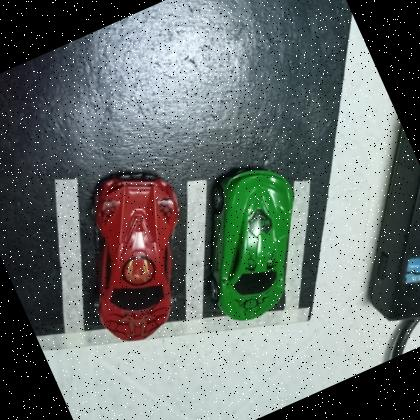Car: (93, 173, 178, 340), (213, 168, 294, 320)
